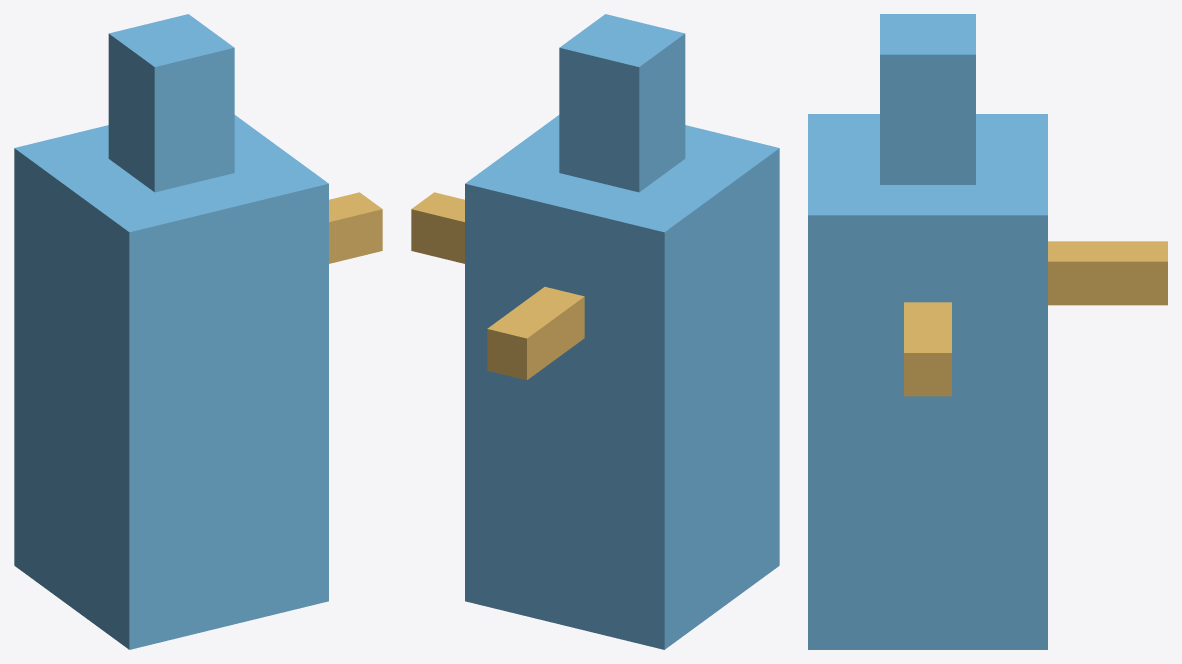
File: socket_plug.glb
3 views of the same model, side by side, from view 1: azimuth 30°, elevation 25°; view 2: azimuth 150°, elevation 25°; view 3: azimuth 270°, elevation 25° (orthographic). The views are drawn at different scales.
Visible parts, largest first — view 1: socket_plug; view 2: socket_plug; view 3: socket_plug.
Boxes of the visible parts, bbox=[...] form: socket_plug: bbox=[14, 14, 382, 649]; socket_plug: bbox=[411, 14, 779, 649]; socket_plug: bbox=[808, 14, 1167, 649].
Bounding box in the file's own units: 0.3 × 0.52 × 0.3.
